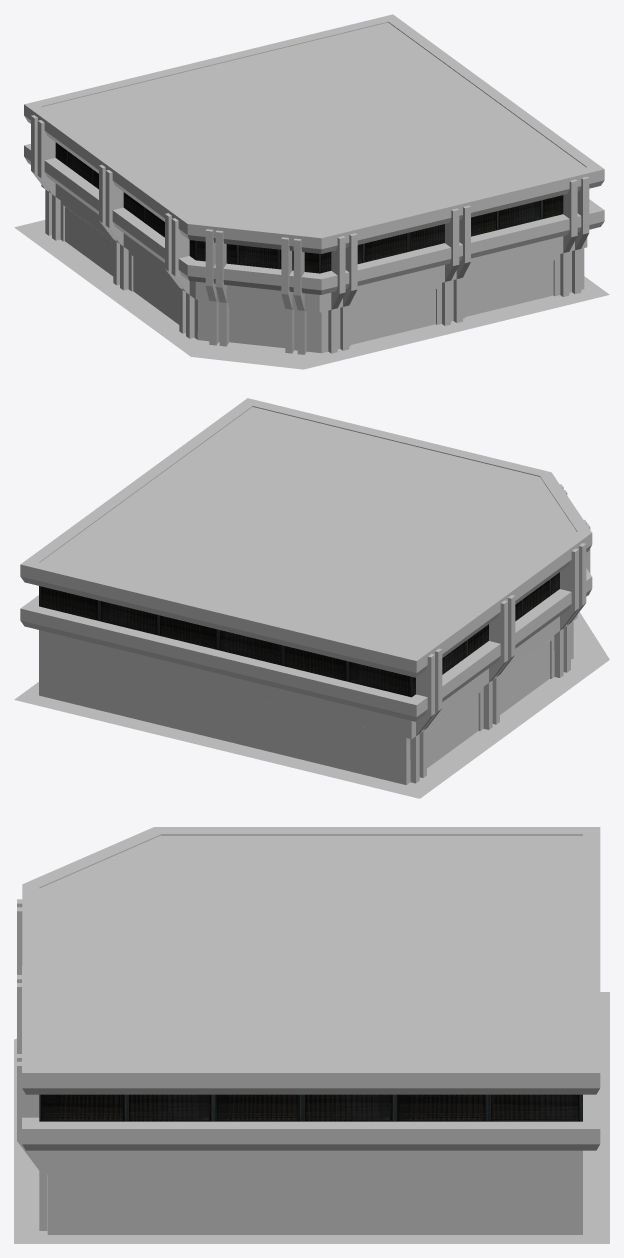
3 renders of one model, top to bottom at view 1: azimuth 30°, elevation 25°; view 2: azimuth 150°, elevation 25°; view 3: azimuth 270°, elevation 25°, orthographic. The views are drawn at different scales.
Parts seen in each view (by area): view 1: EB-015; view 2: EB-015; view 3: EB-015.
Part boxes in pixels (x1,y1,x2,y2): EB-015: [14, 14, 609, 369]; EB-015: [14, 398, 609, 798]; EB-015: [14, 827, 609, 1243].
Size of what is drawn, in the model's own units: 36 by 11.35 by 36.
